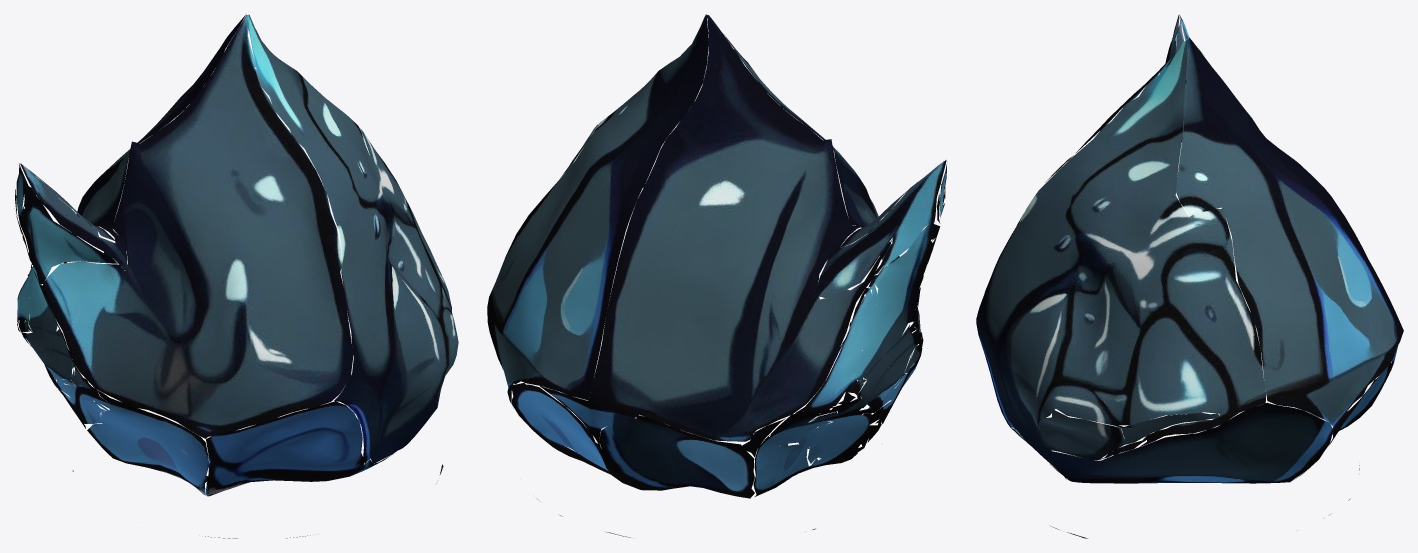
File: firtina_kaya.glb
The picture shows the model from 3 angles, left to right: view 1: azimuth 30°, elevation 25°; view 2: azimuth 150°, elevation 25°; view 3: azimuth 270°, elevation 25°; orthographic projection. The views are drawn at different scales.
Visible parts, largest first — view 1: geometry_0; view 2: geometry_0; view 3: geometry_0.
Boxes of the visible parts, <box> form: geometry_0: <box>14,14,458,538</box>; geometry_0: <box>487,14,946,537</box>; geometry_0: <box>976,14,1403,538</box>.
Size of the model in its own units: 0.9735 by 0.9996 by 0.8923.
1 material, 1 textured.
